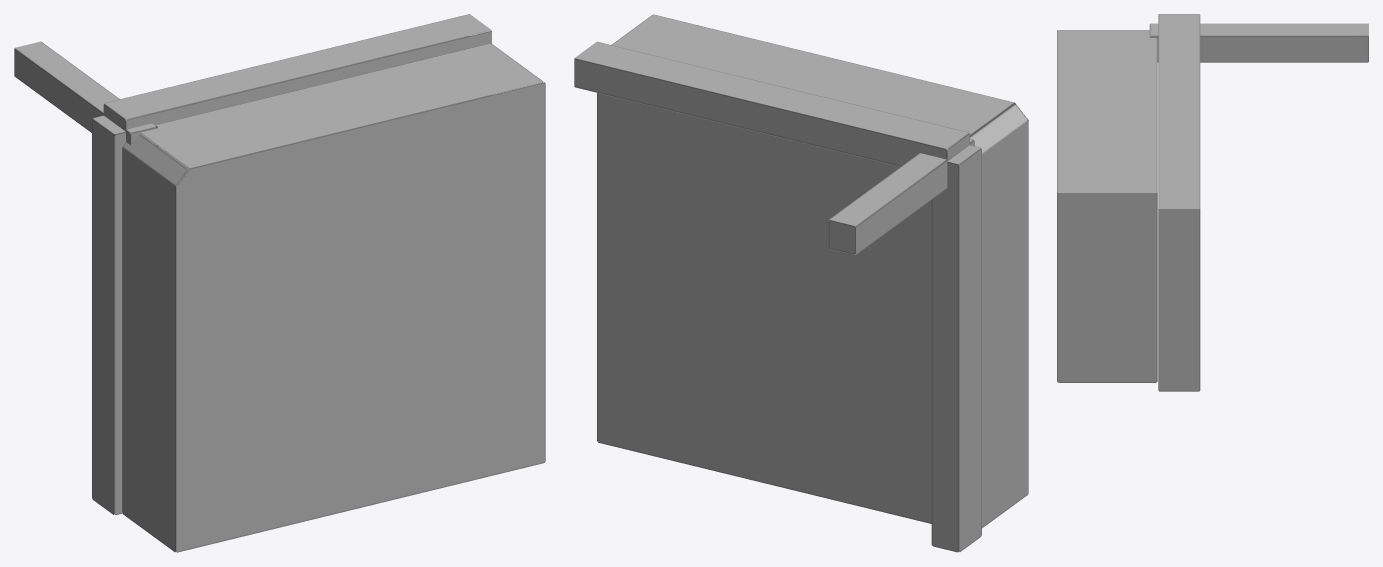
Rendered from pz_bed_bedding_01_large_oak_0_1.obj.
3 views of the same model, side by side, from view 1: azimuth 30°, elevation 25°; view 2: azimuth 150°, elevation 25°; view 3: azimuth 270°, elevation 25° (orthographic). The views are drawn at different scales.
Bounding box in the file's own units: 0.975 × 0.97 × 0.74.
1 material, 1 textured.
